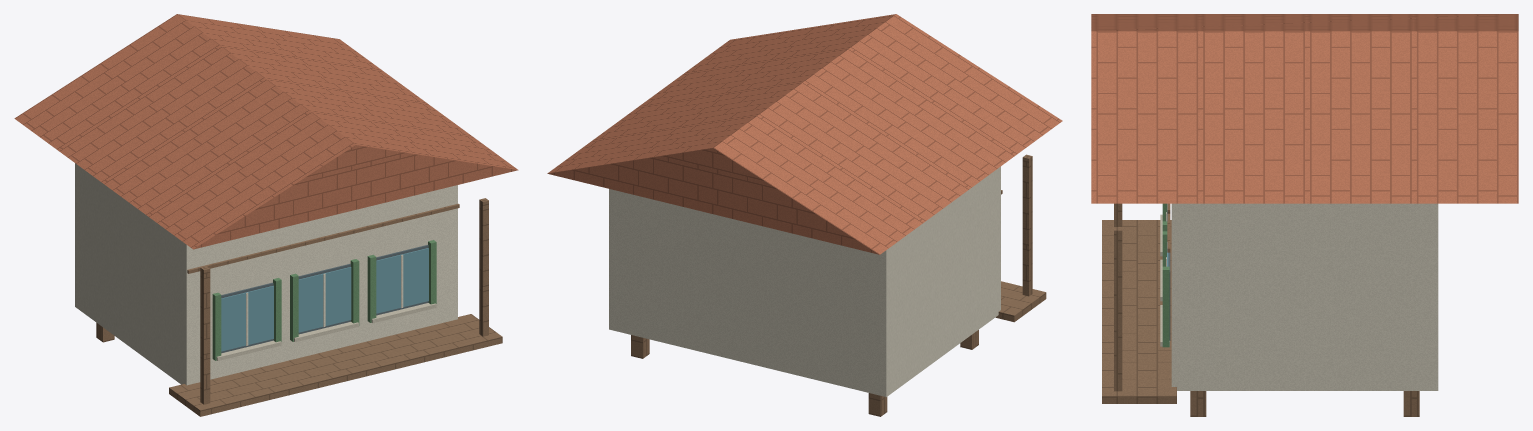
File: deep-veranda.glb
3 views of the same model, side by side, from view 1: azimuth 30°, elevation 25°; view 2: azimuth 150°, elevation 25°; view 3: azimuth 270°, elevation 25° (orthographic). The views are drawn at different scales.
Bounding box in the file's own units: 8.4 × 6.5 × 8.
7 materials, 6 textured.
